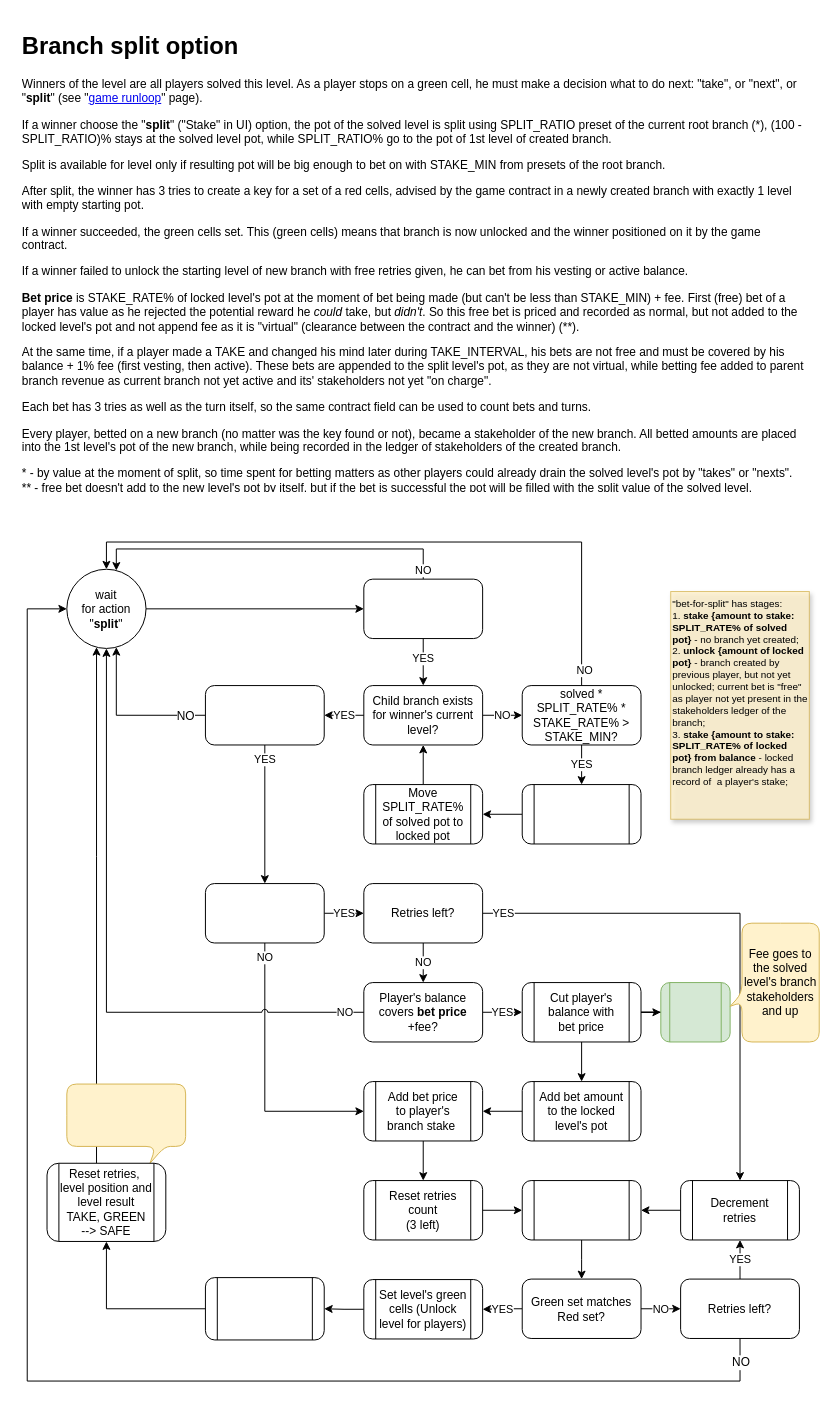
The diagram is 837 pixels wide and 1406 high, and some of its shapes have lost their labels. Here are the shapes that lost their labels. From the top down, the centre of each, then its label:
the point at 423,608: Player's level result is " GREEN " or " TAKE "?
the point at 264,715: Child branch locked? (only locked branches allegeable for bets)
the point at 581,814: Create child branch and a locked level with "Red" cells
the point at 264,913: Winner's stake registered in branch? (if not - the 1st bet is free for a winner)
the point at 695,1012: allocate fee
the point at 126,1123: Player is allowed to make turns and play even with positive vested balance
the point at 581,1210: Generate random set of Green cells
the point at 264,1308: Set player's position at the unlocked level
